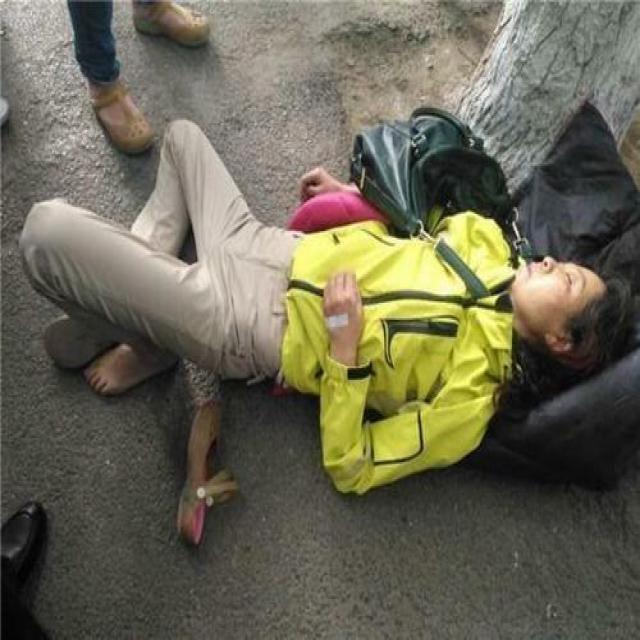fall: (10, 56, 636, 575)
